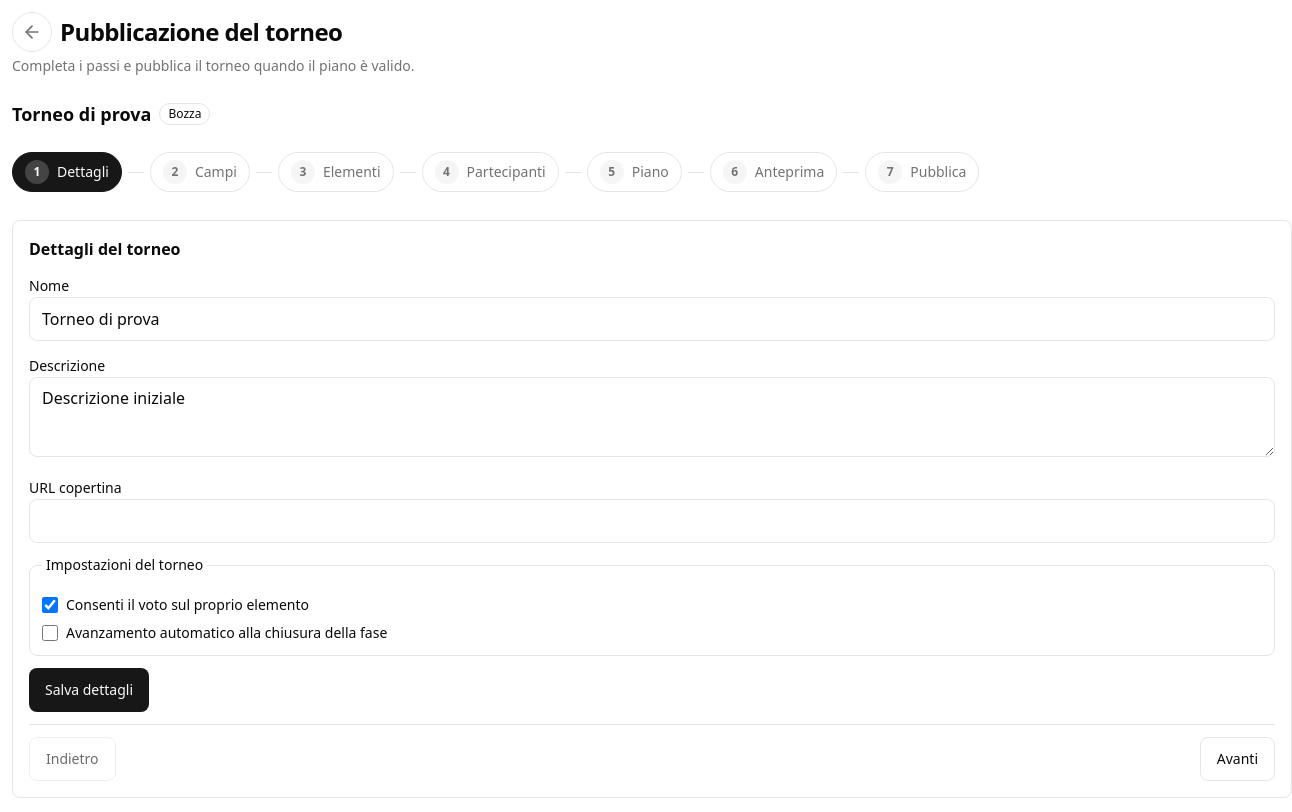
Scenario: TournamentWizardView › mostra i passi e salva i dettagli con le impostazioni
This screenshot has width=1292, height=812.
Expected: the button with test id "wizard-step-publish" is shown, x1=865 y1=152 x2=979 y2=192
Replace the text in the field with id "wizard-name" with "Torneo rinominato": (652, 319) x1=29 y1=297 x2=1275 y2=341
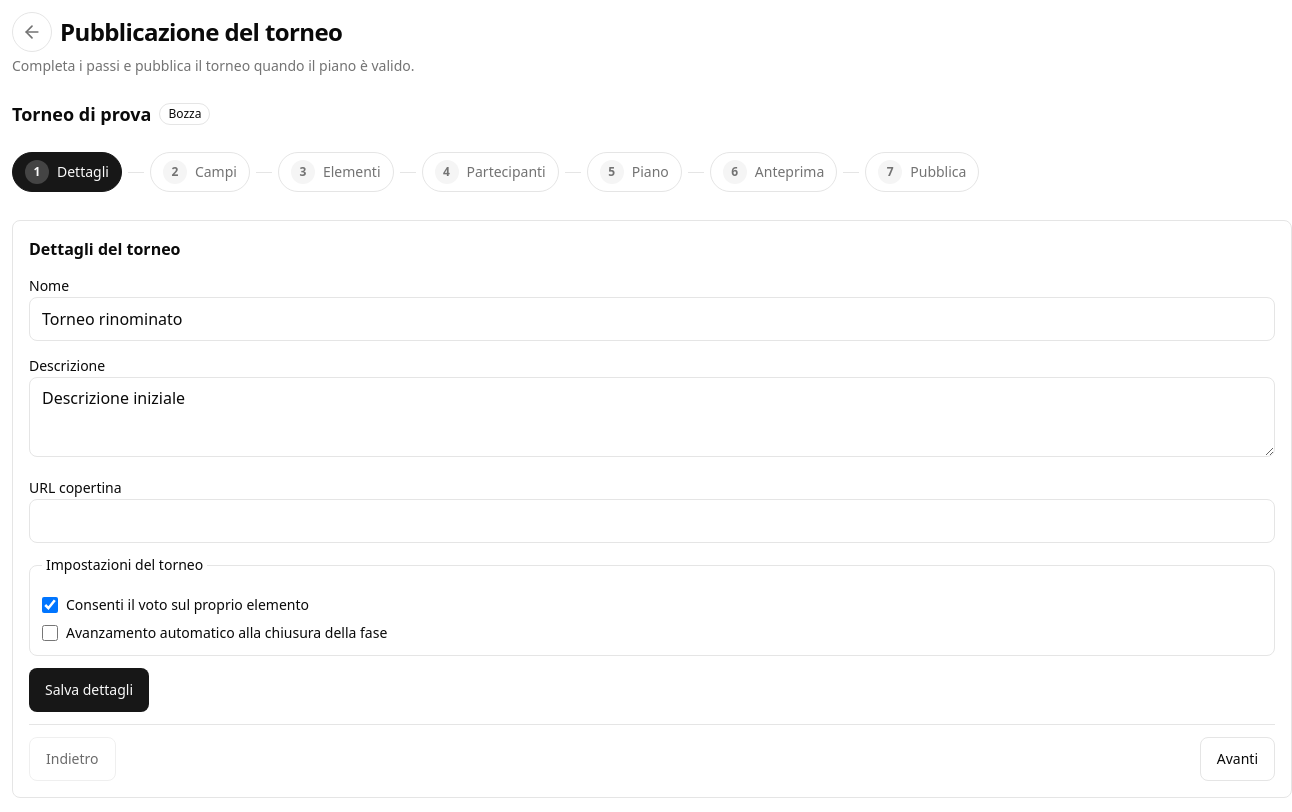
Click the checkbox with id "wizard-auto-advance": (50, 633) x1=42 y1=625 x2=58 y2=641
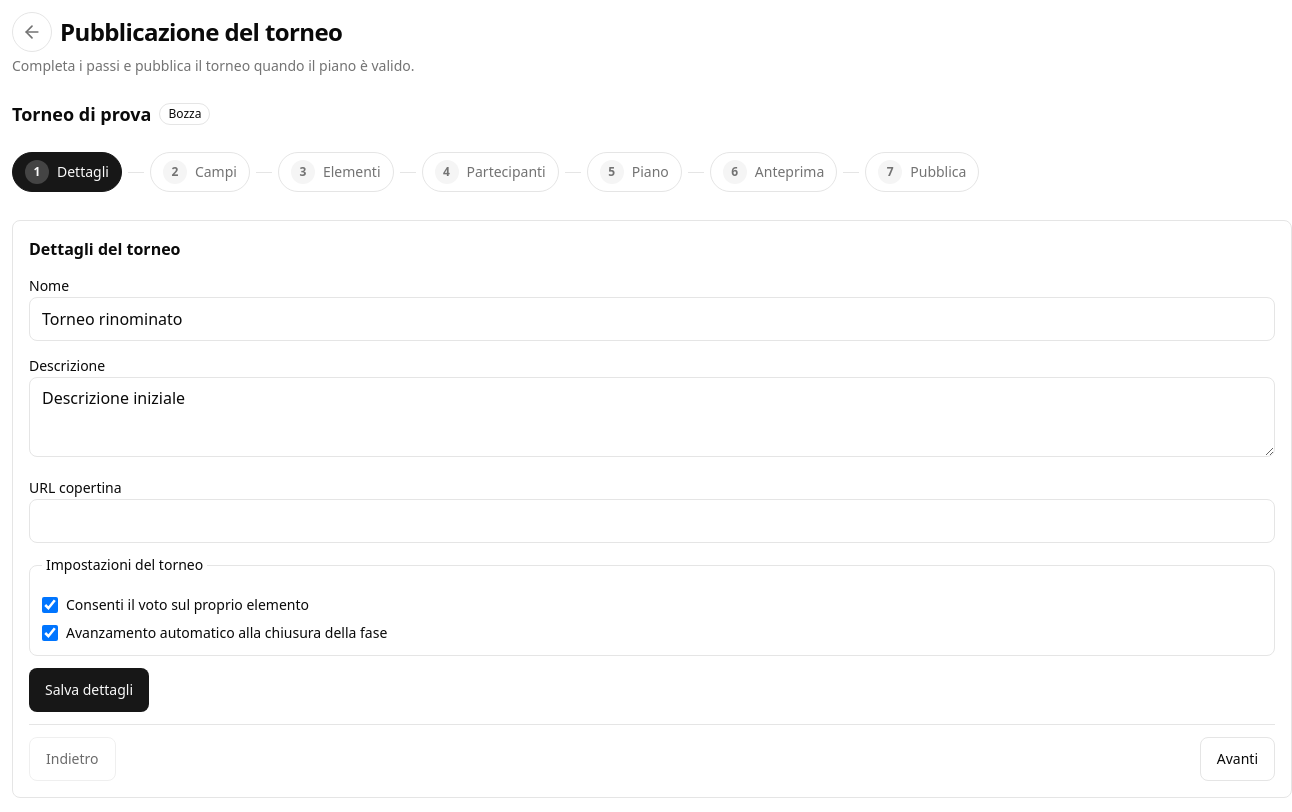
Submit the form with id "wizard-details-form", box x1=29 y1=273 x2=1275 y2=712
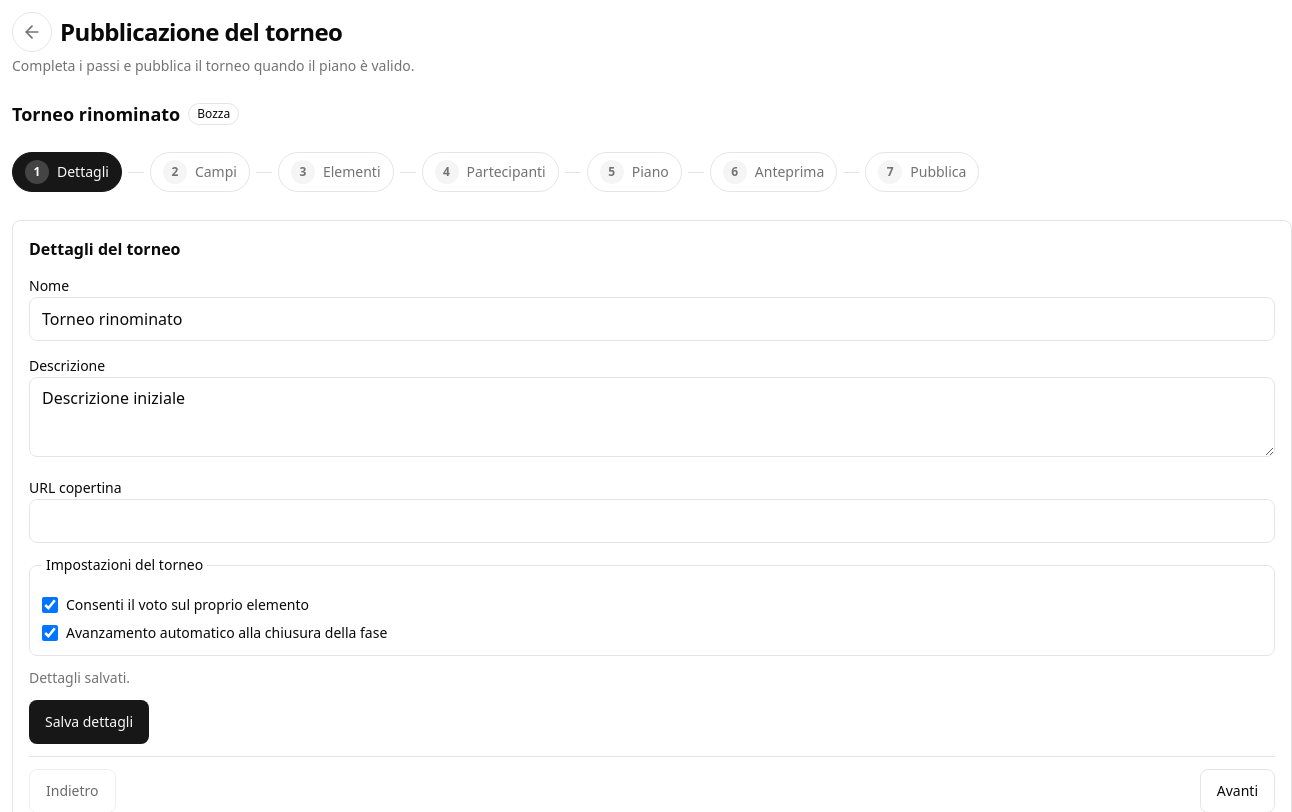
Result: the message "Dettagli salvati." is shown at x1=29 y1=668 x2=130 y2=687
